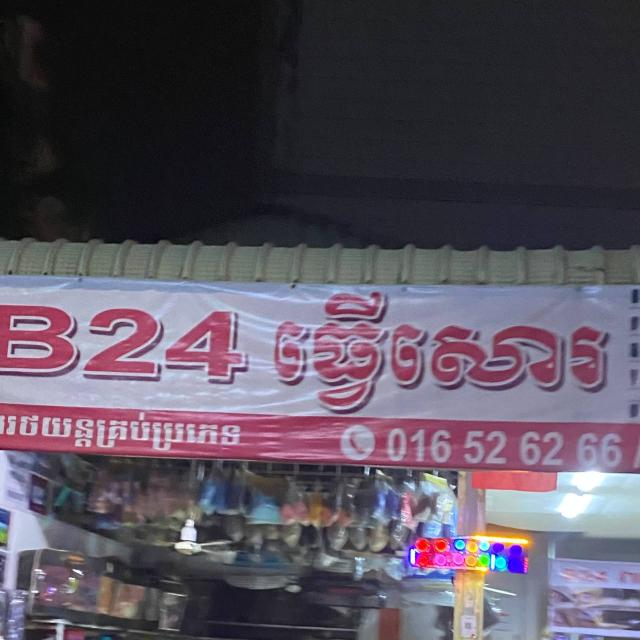307: (386, 418, 637, 470)
667: (80, 287, 616, 404)
Yolov11_80vkh: (2, 404, 246, 460)
